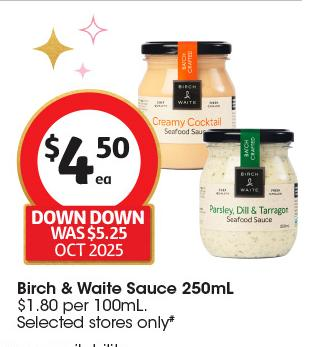description_block: (8, 272, 248, 300)
price_main: (8, 98, 166, 208)
product_image_block: (141, 31, 309, 266)
promo_text_block: (18, 205, 164, 266)
unit_price_block: (12, 295, 153, 313)
